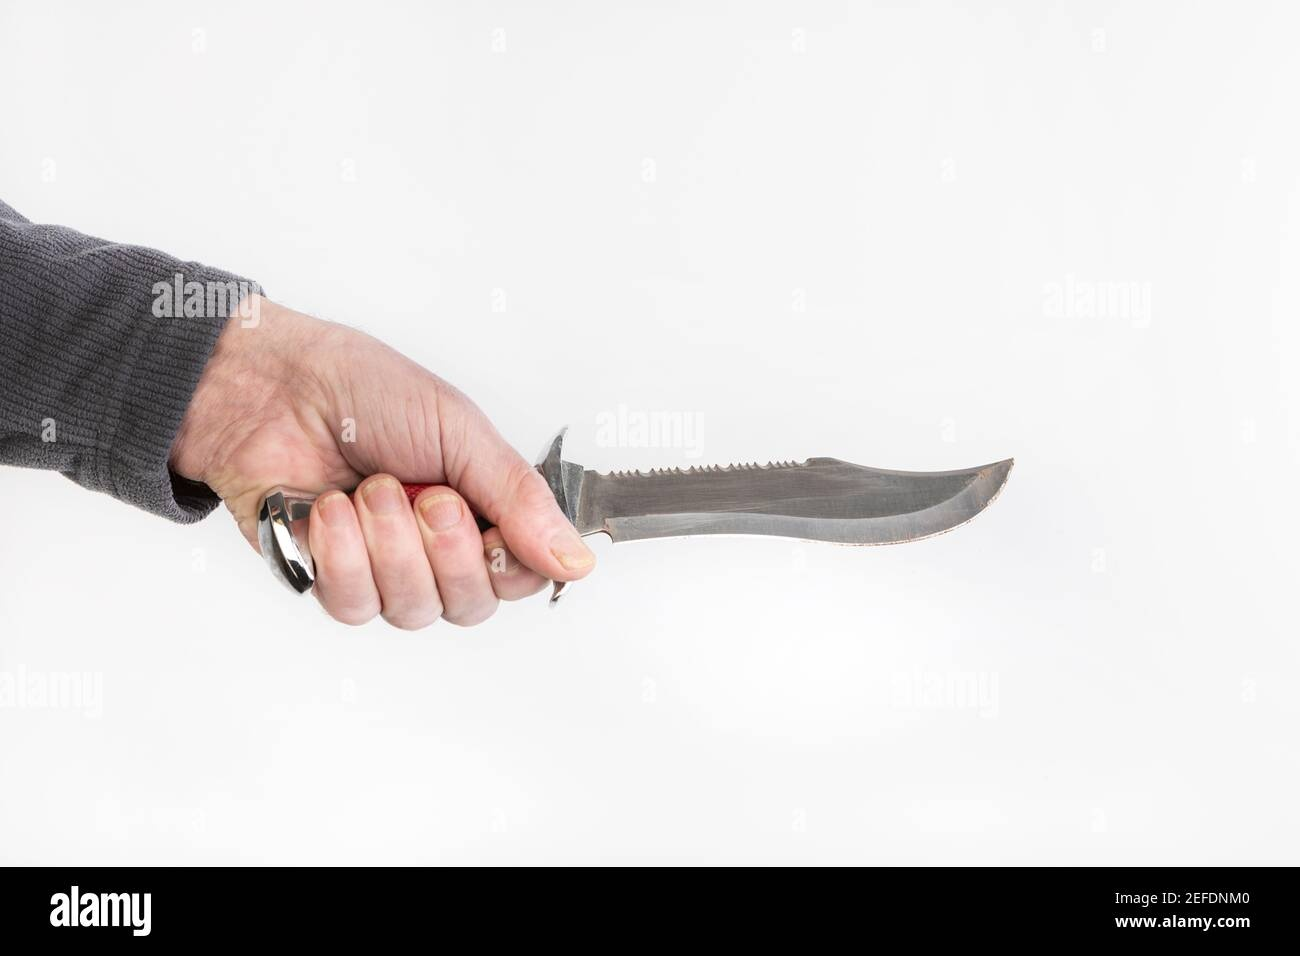knife: (260, 422, 1013, 606)
